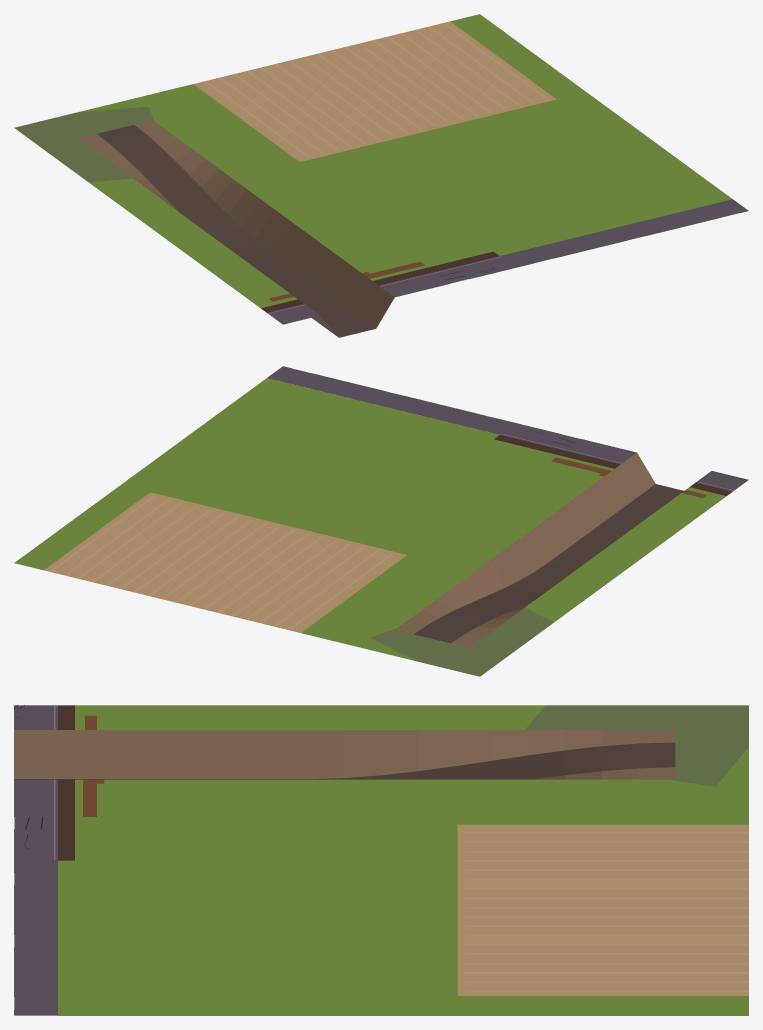
Rendered from crossing-11-3.glb.
The picture shows the model from 3 angles, top to bottom: view 1: azimuth 30°, elevation 25°; view 2: azimuth 150°, elevation 25°; view 3: azimuth 270°, elevation 25°; orthographic projection. The views are drawn at different scales.
Parts seen in each view (by area): view 1: crossing-11-3; view 2: crossing-11-3; view 3: crossing-11-3.
Part boxes in pixels (x1,y1,x2,y2): crossing-11-3: (14,14,748,337); crossing-11-3: (14,366,748,676); crossing-11-3: (14,705,748,1015).
Bounding box in the file's own units: 100 × 5.51 × 100.
